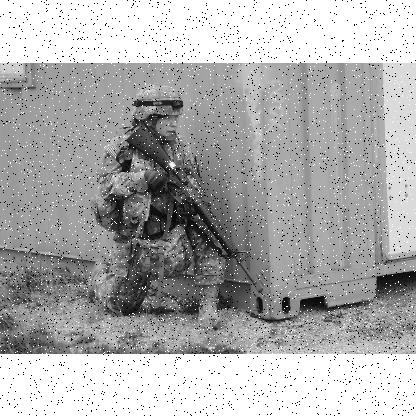gun: (96, 139, 270, 297)
